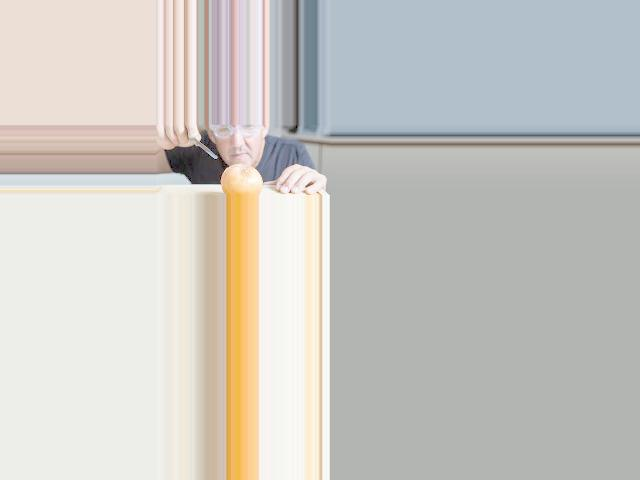onion: (220, 163, 263, 195)
